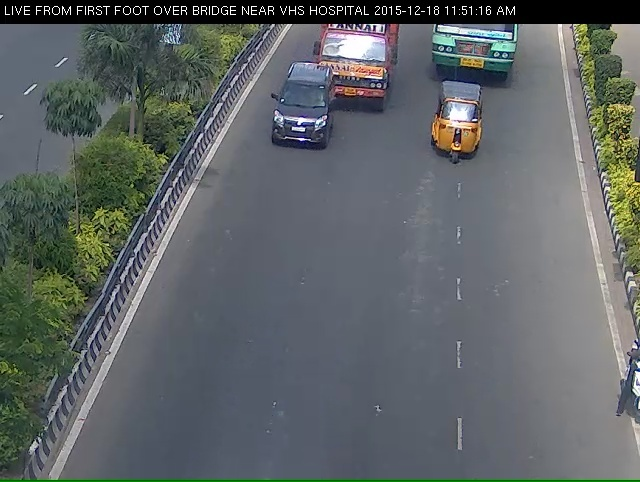Bus: (313, 20, 388, 112), (429, 19, 523, 84)
Car: (271, 78, 330, 164), (431, 95, 488, 178)
